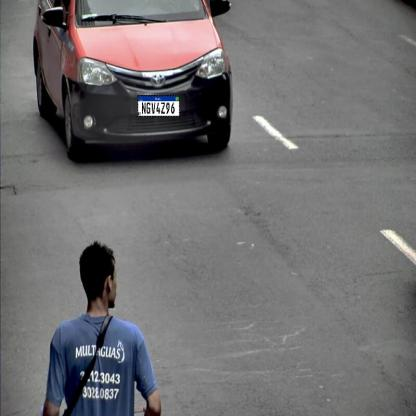PlacaM: (137, 95, 180, 117)
